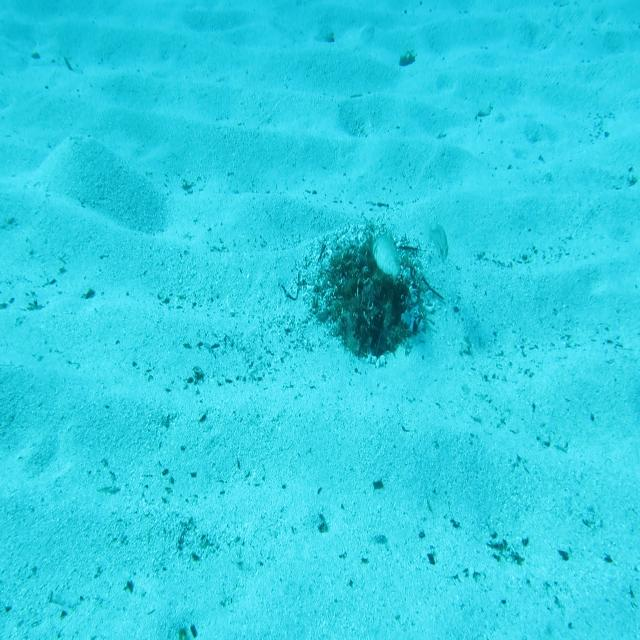ROLL: (367, 230, 411, 285)
female: (417, 216, 453, 267)
nest: (318, 232, 441, 373)
